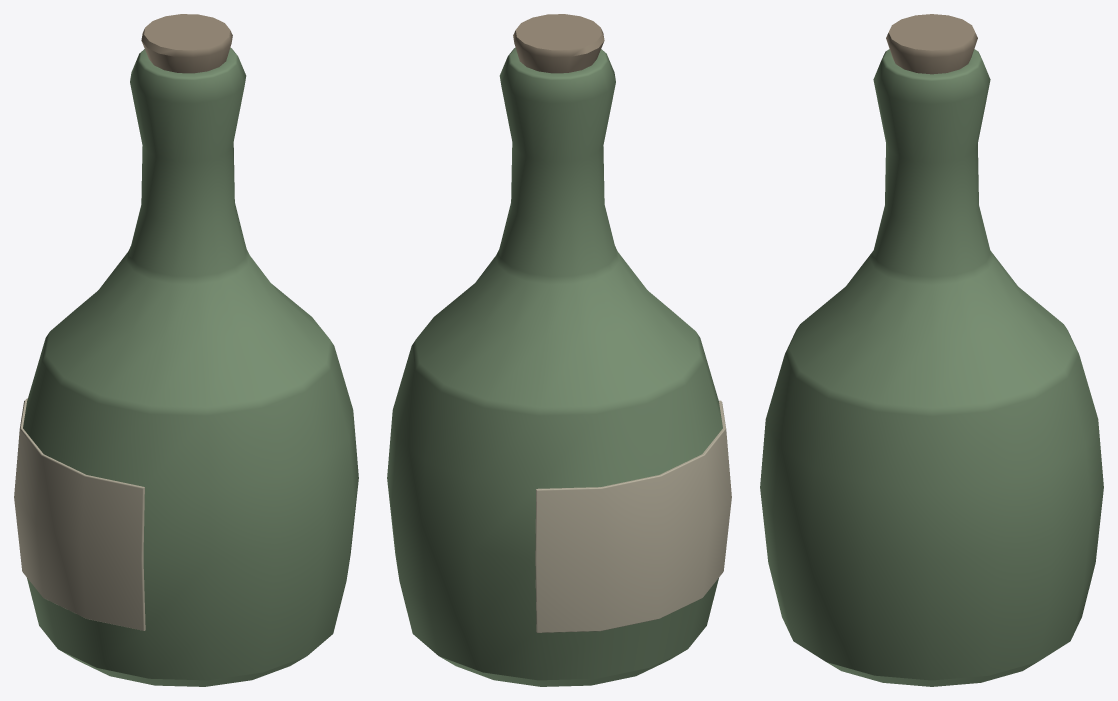
Rendered from Flask_01.fbx.
3 views of the same model, side by side, from view 1: azimuth 30°, elevation 25°; view 2: azimuth 150°, elevation 25°; view 3: azimuth 270°, elevation 25° (orthographic).
Visible parts, largest first — view 1: Flask_01; view 2: Flask_01; view 3: Flask_01.
Part boxes in pixels (<box>): Flask_01: <box>14,14,358,686</box>; Flask_01: <box>387,14,731,686</box>; Flask_01: <box>760,14,1103,686</box>.
Size of the model in its own units: 13.56 by 25.85 by 13.43.
